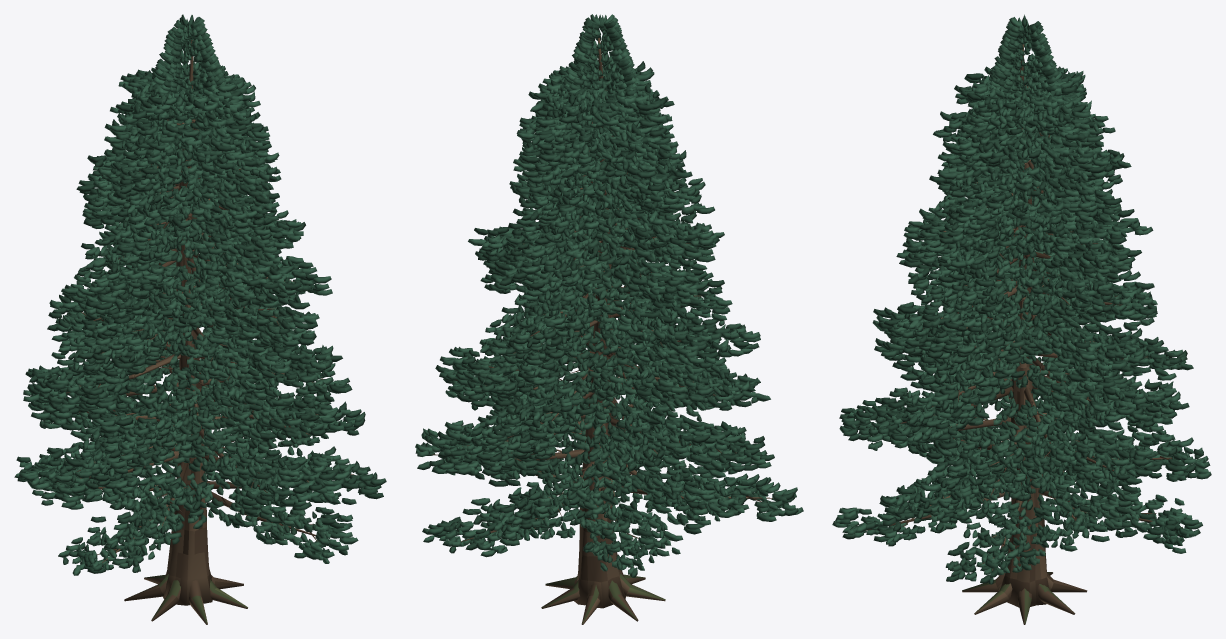
The model's file is forest-cedar-1.glb.
3 views of the same model, side by side, from view 1: azimuth 30°, elevation 25°; view 2: azimuth 150°, elevation 25°; view 3: azimuth 270°, elevation 25° (orthographic).
Parts seen in each view (by area): view 1: forest-cedar-1/1, forest-cedar-1/0; view 2: forest-cedar-1/1, forest-cedar-1/0; view 3: forest-cedar-1/1, forest-cedar-1/0.
Part boxes in pixels (x1,y1,x2,y2): forest-cedar-1/1: [14, 14, 386, 575]; forest-cedar-1/0: [57, 40, 354, 624]; forest-cedar-1/1: [415, 14, 803, 577]; forest-cedar-1/0: [432, 38, 772, 624]; forest-cedar-1/1: [832, 14, 1211, 584]; forest-cedar-1/0: [865, 44, 1182, 624].
Size of the model in its own units: 6.17 by 10.41 by 6.19.
